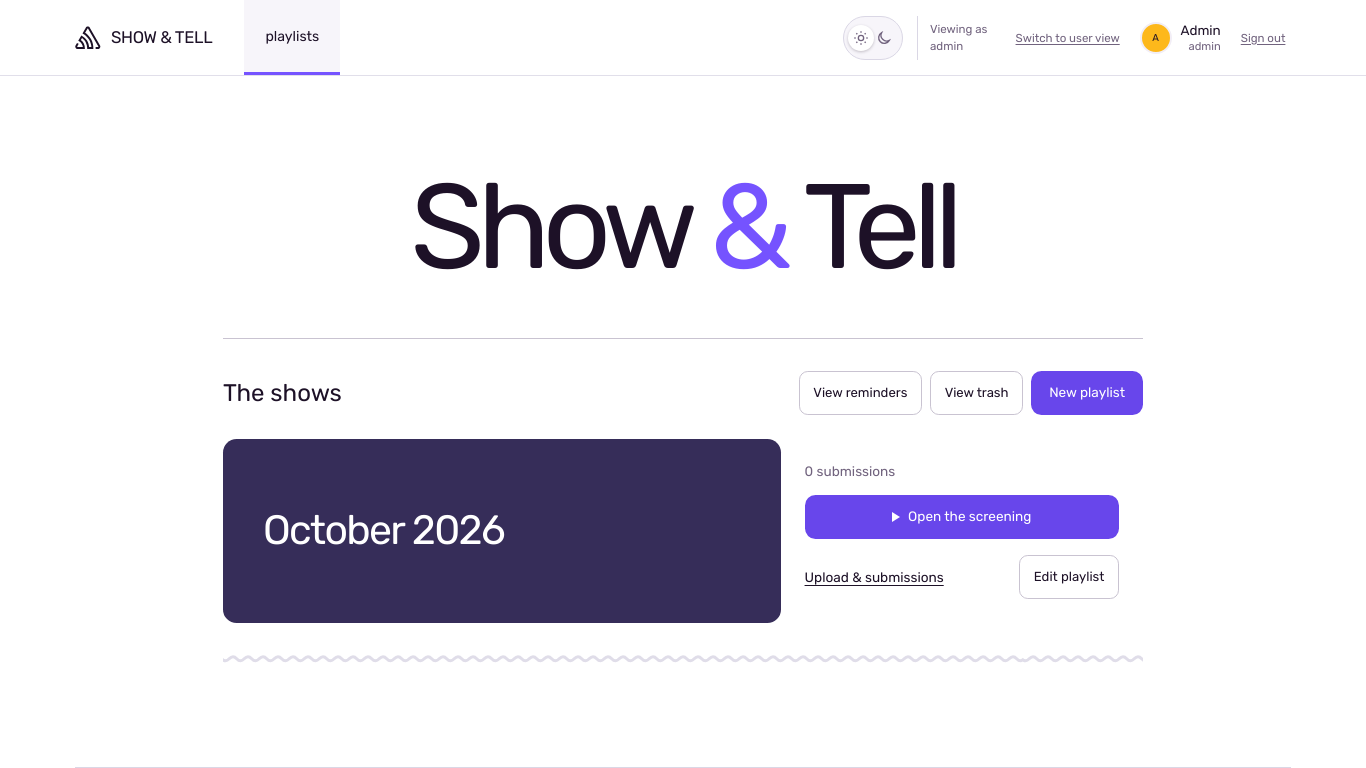
Scenario: App › edits title and description from / without changing links
The width and height of the screenshot is (1366, 768).
Click the button "Edit playlist". click: [1069, 577]
box: left=1019, top=555, right=1119, bottom=599
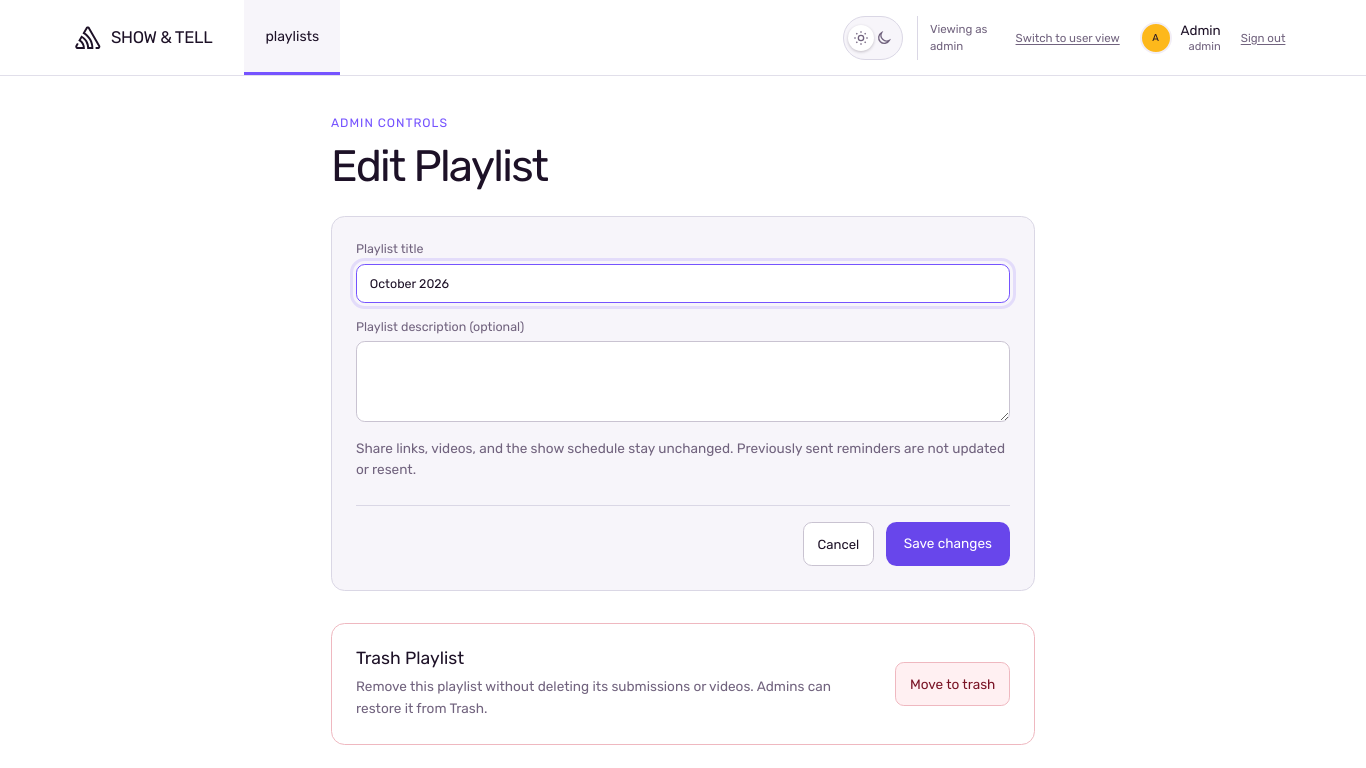
Check: the field labelled "Playlist title" holds "October 2026"
Replace the text in the field labelled "Playlist title" with "Discard me". click: [683, 283]
box: left=356, top=264, right=1010, bottom=303
Click the button "Cancel". click: [838, 544]
box: left=803, top=522, right=874, bottom=566
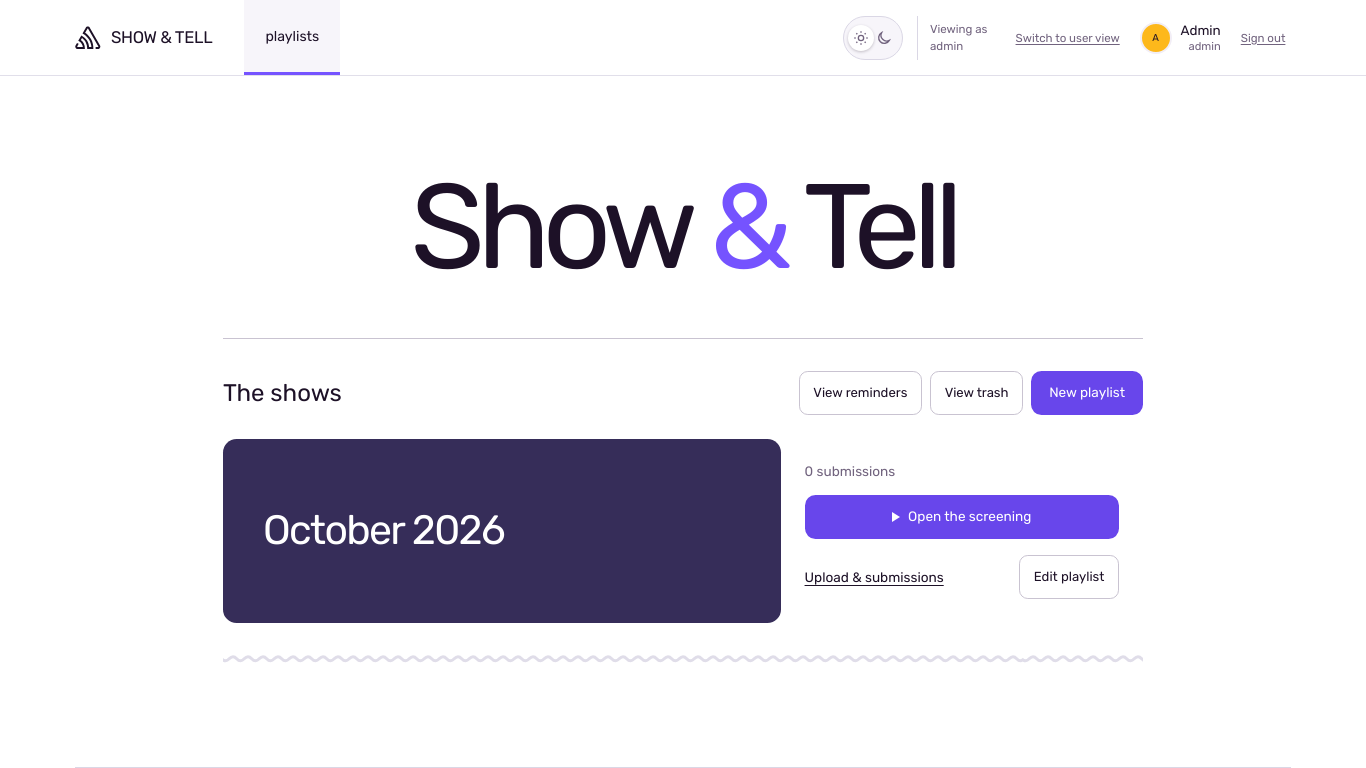
Click the button "Edit playlist". click: [1069, 577]
box: left=1019, top=555, right=1119, bottom=599
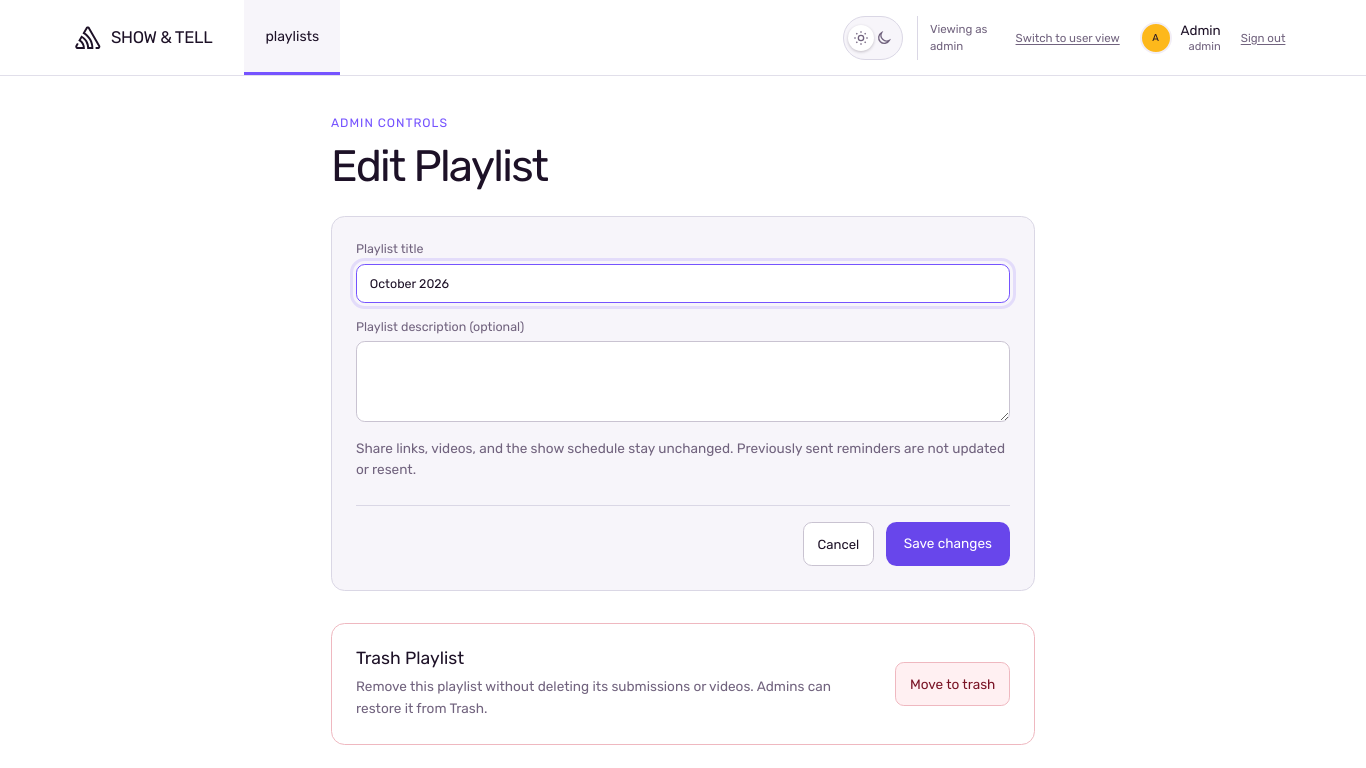
Check: the field labelled "Playlist title" holds "October 2026"
Replace the text in the field labelled "Playlist title" with "Updated show". click: [683, 283]
box: left=356, top=264, right=1010, bottom=303
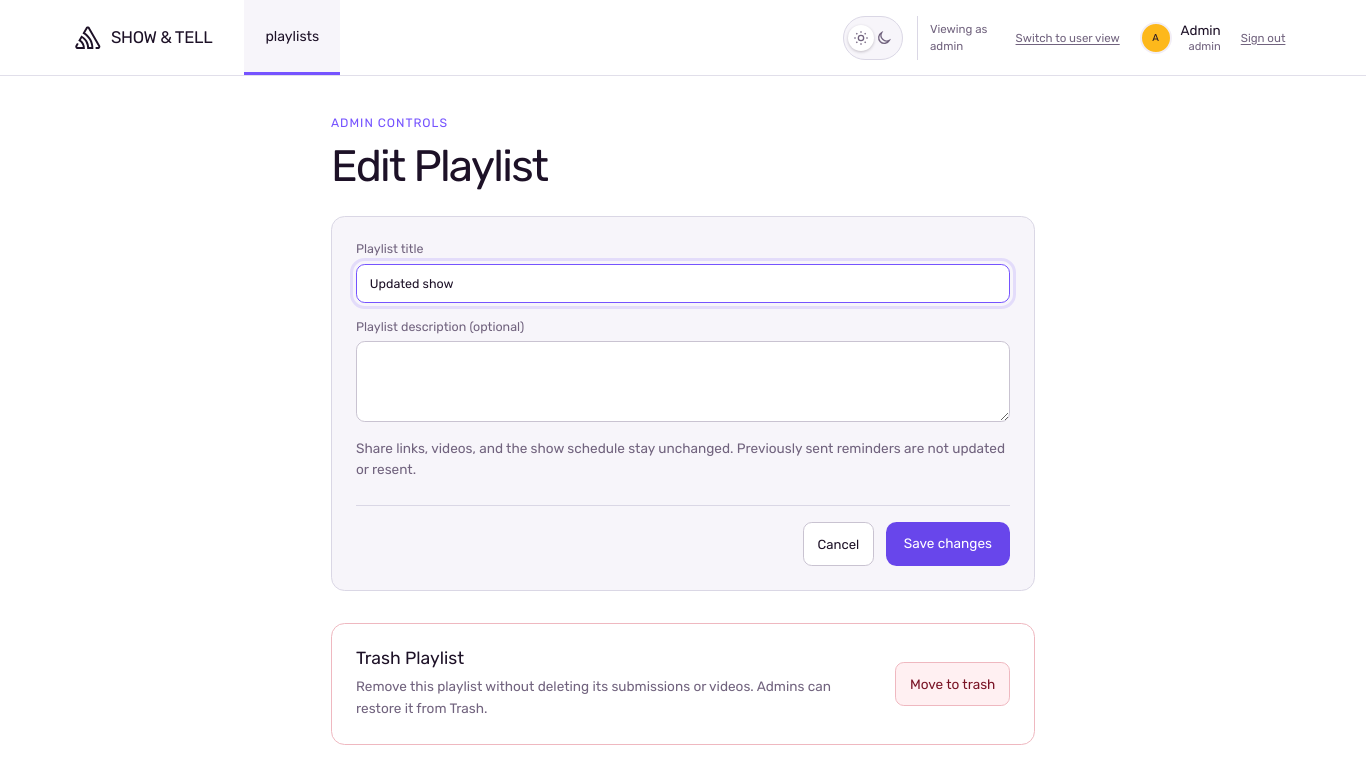
Type "Updated description" into the text box labelled "Playlist description (optional)". click: [683, 381]
box: left=356, top=341, right=1010, bottom=422
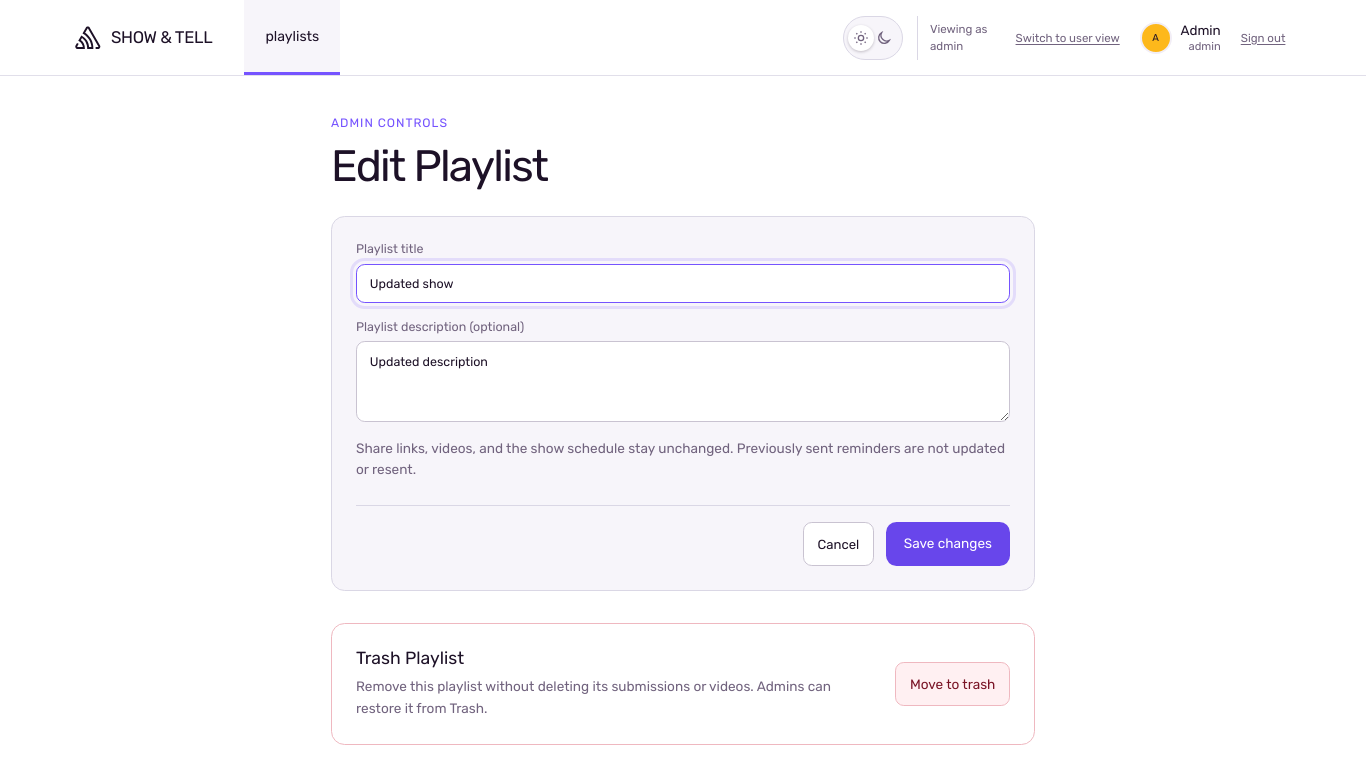
Click the button "Save changes". click: [948, 544]
box: left=886, top=522, right=1010, bottom=566
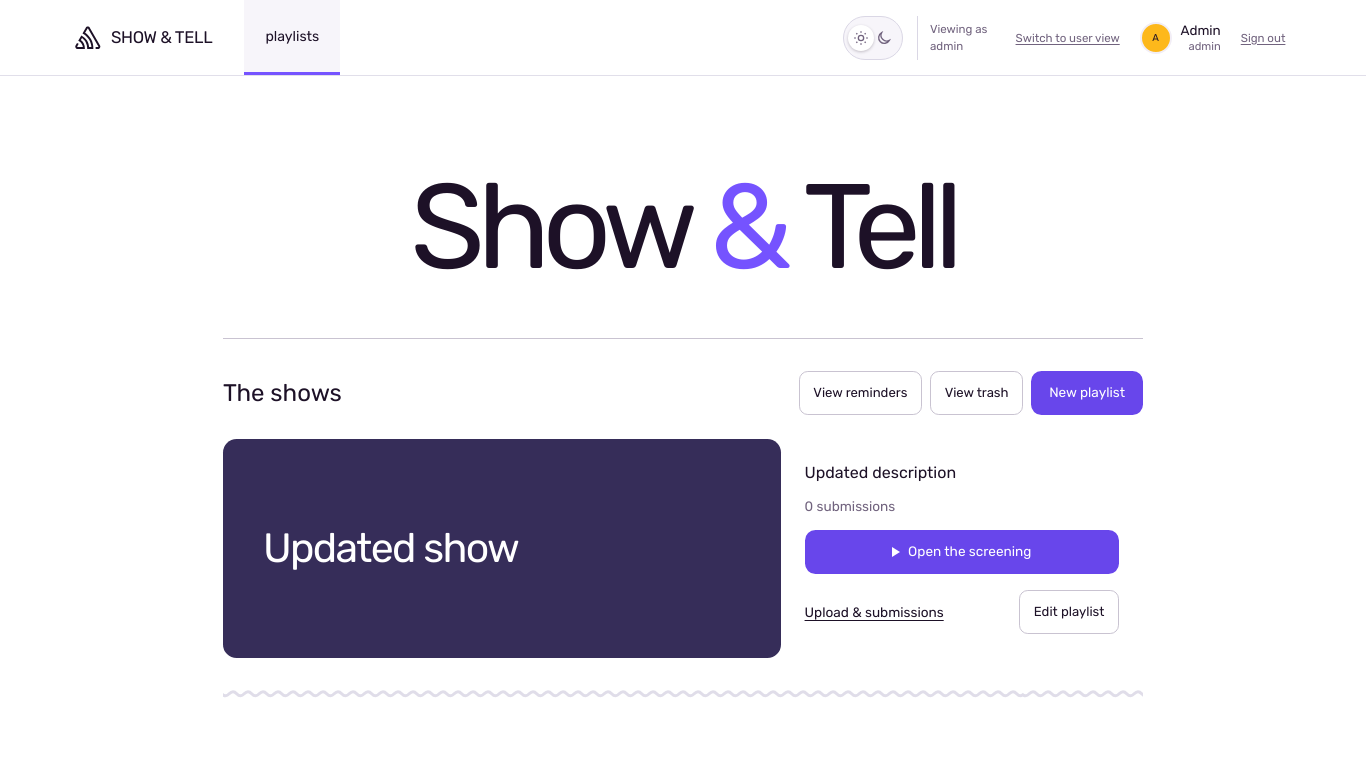
Check: the heading "Updated show" is shown, box left=263, top=524, right=518, bottom=572
Check: the text "Updated description" is shown, box left=805, top=463, right=956, bottom=482
